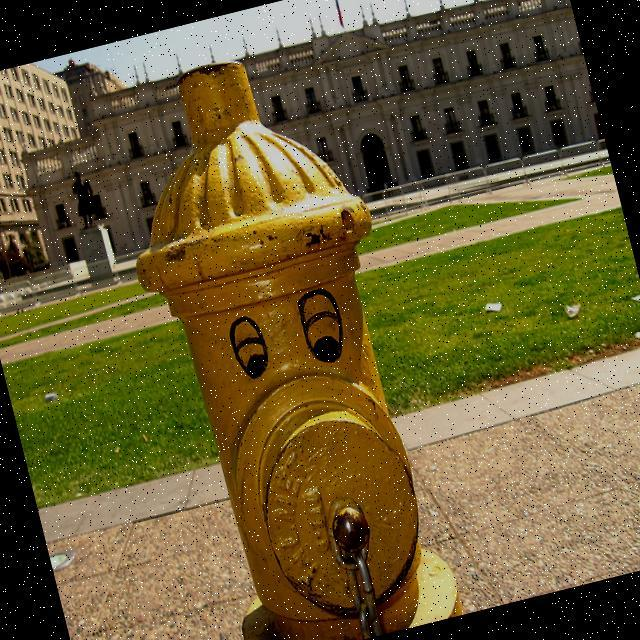fire_hydrant: (89, 32, 468, 640)
